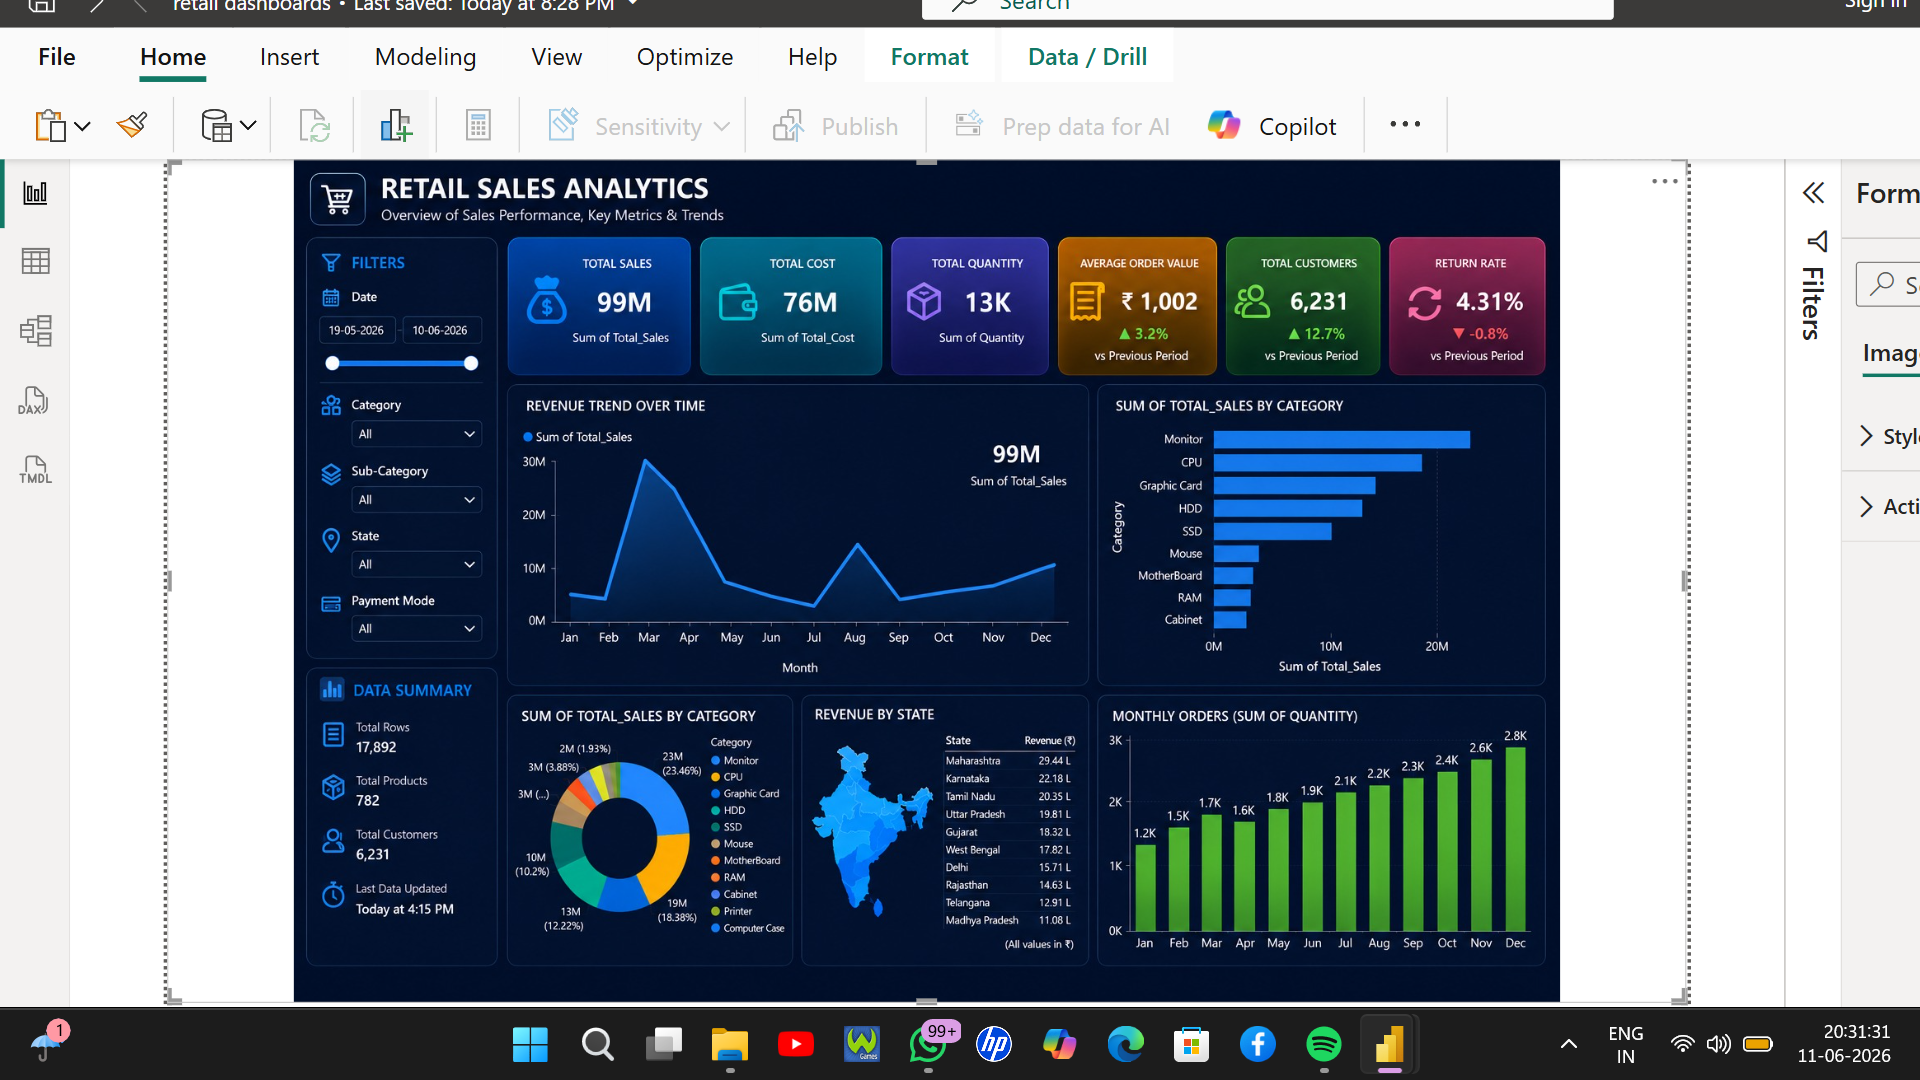

The dashboard page shown, as its layout file describes it:
{"tool":"powerbi","page":{"name":"Page 1","canvas":[1280,720],"ordinal":0},"visuals":[{"type":"image","box":[0,0,1279.9,710.8],"z":0}]}

Visuals, with their boxes on the page's 1280x720 design canvas (x1, y1, x2, y2). These are canvas units, not pixel positions in the 1920x1080 screenshot, which may show the page scaled, cropped or inside an application window:
image: (x1=0, y1=0, x2=1280, y2=711)
